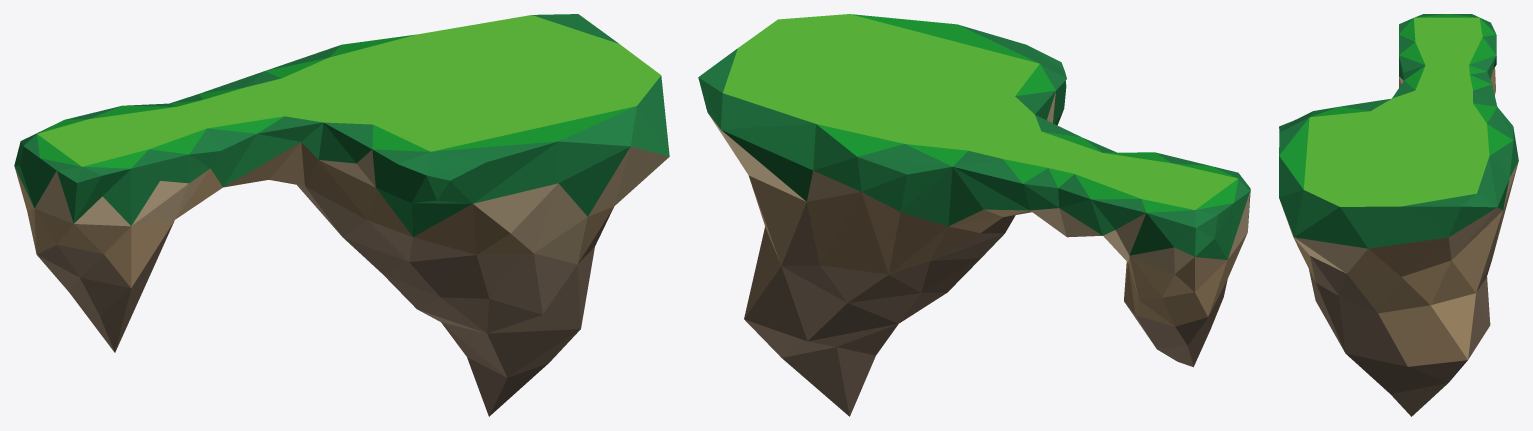
Rendered from bridge island.fbx.
3 renders of one model, left to right at view 1: azimuth 30°, elevation 25°; view 2: azimuth 150°, elevation 25°; view 3: azimuth 270°, elevation 25°, orthographic. The views are drawn at different scales.
Parts seen in each view (by area): view 1: Cube; view 2: Cube; view 3: Cube.
Part boxes in pixels (bbox=[...]): Cube: bbox=[14, 14, 669, 416]; Cube: bbox=[698, 14, 1250, 416]; Cube: bbox=[1279, 14, 1518, 416].
Bounding box in the file's own units: 4737 × 2877 × 2457.
